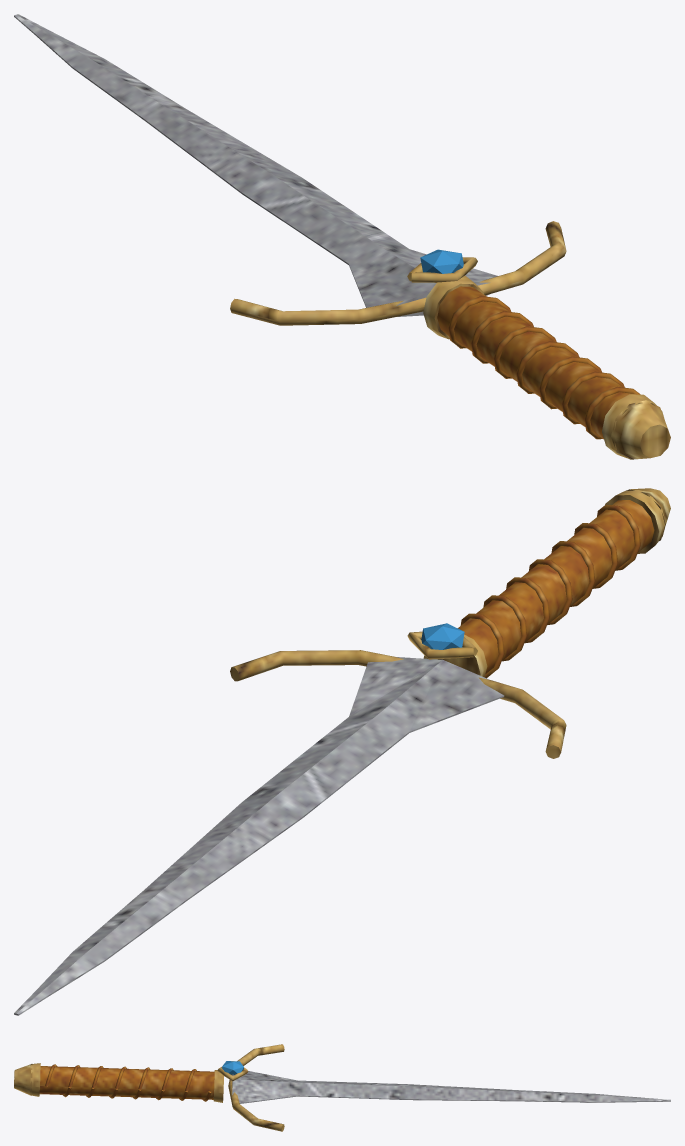
Rendered from item_dagger3.glb.
3 views of the same model, one above another, from view 1: azimuth 30°, elevation 25°; view 2: azimuth 150°, elevation 25°; view 3: azimuth 270°, elevation 25° (orthographic). The views are drawn at different scales.
Parts seen in each view (by area): view 1: w02_dagger3; view 2: w02_dagger3; view 3: w02_dagger3.
Boxes of the visible parts, left/top/right/bottom form: w02_dagger3: left=14, top=14, right=670, bottom=459; w02_dagger3: left=14, top=488, right=670, bottom=1015; w02_dagger3: left=14, top=1044, right=670, bottom=1131.
Size of the model in its own units: 0.2909 by 0.0651 by 0.9729.
2 materials, 1 textured.
